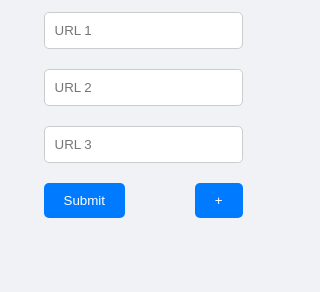
Scenario: UrlsPanel Component › removes a URL input when - button is clicked
Step 1. Click the button "+" → (219,200), box [195,183,242,218]
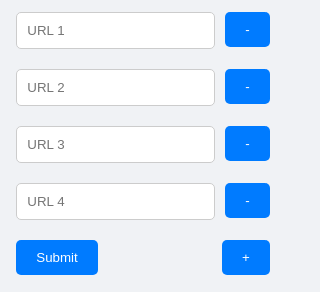
Step 2. Click the 1st button "-" → (248,30), box [225,12,270,47]
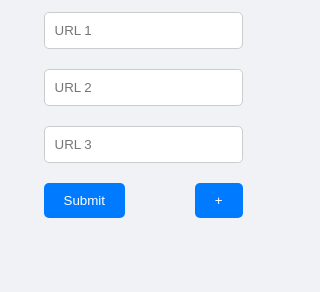
Expected: the number of fields with placeholder "URL 1" is 3, [44,12,242,49]; [44,69,242,106]; [44,126,242,163]
